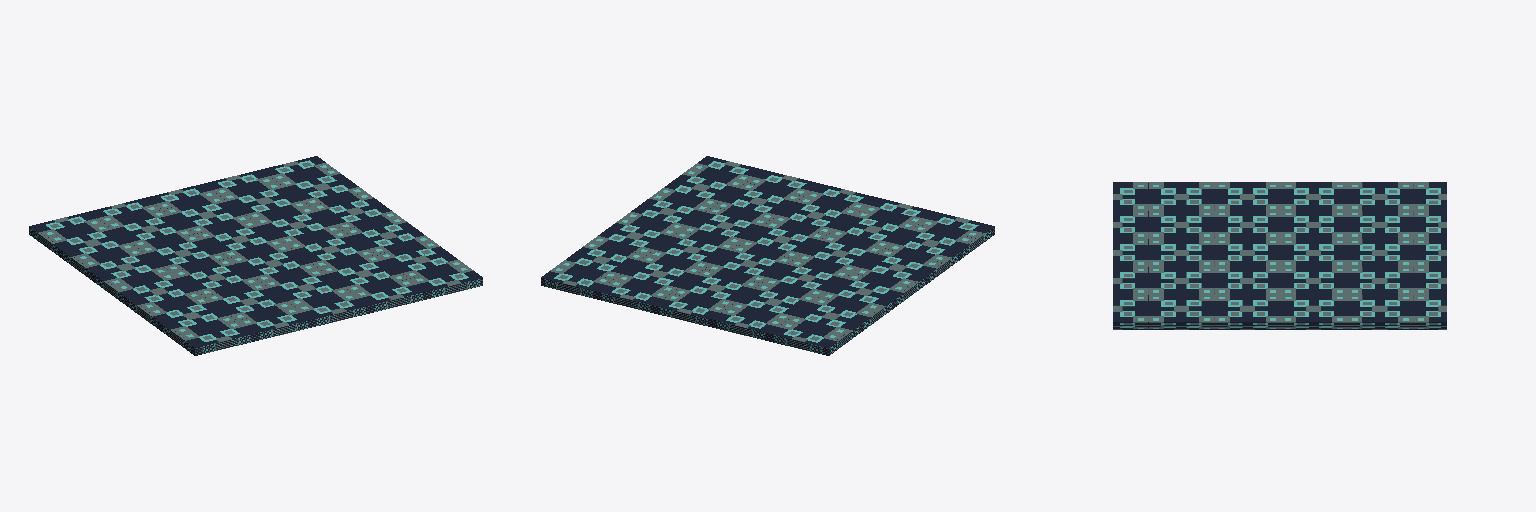
3 views of the same model, side by side, from view 1: azimuth 30°, elevation 25°; view 2: azimuth 150°, elevation 25°; view 3: azimuth 270°, elevation 25° (orthographic).
Visible parts, largest first — view 1: blue_ground; view 2: blue_ground; view 3: blue_ground.
Boxes of the visible parts, box(x1,y1,x2,y2) form: blue_ground: box(29, 156, 482, 355); blue_ground: box(541, 156, 994, 355); blue_ground: box(1113, 182, 1446, 329).
Bounding box in the file's own units: 5.62 × 0.1484 × 5.62.
1 materials, 1 textured.